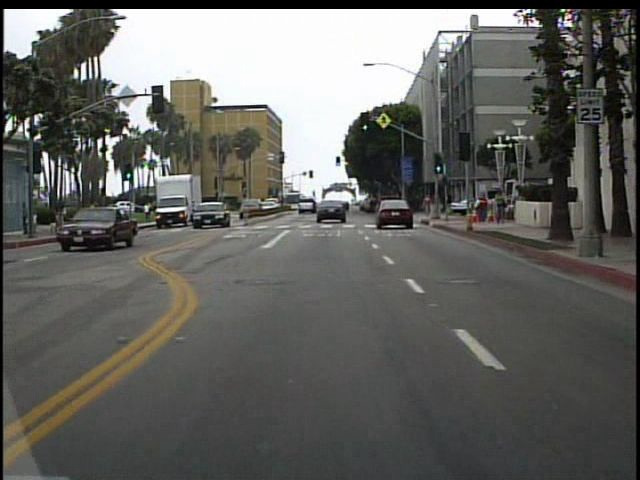person: (84, 195, 102, 237)
